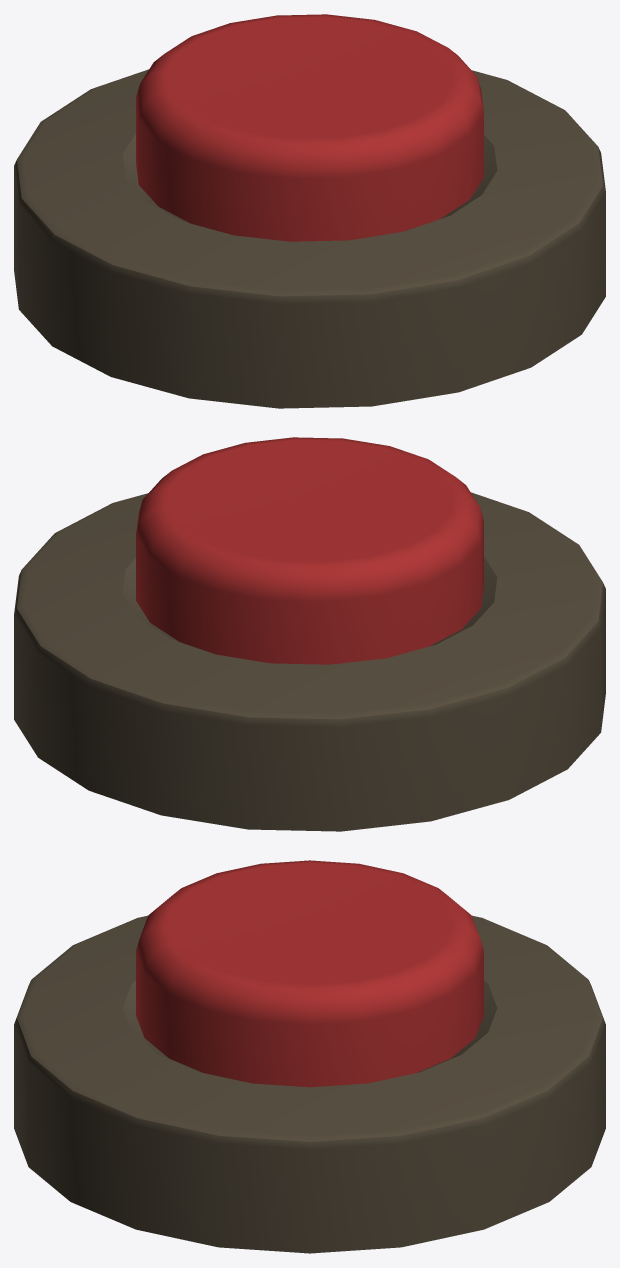
File: button.fbx
3 views of the same model, one above another, from view 1: azimuth 30°, elevation 25°; view 2: azimuth 150°, elevation 25°; view 3: azimuth 270°, elevation 25° (orthographic).
Visible parts, largest first — view 1: button; view 2: button; view 3: button.
Part boxes in pixels (left/top/right/bottom): button: left=14, top=14, right=605, bottom=408; button: left=14, top=437, right=605, bottom=831; button: left=14, top=860, right=605, bottom=1253.
Size of the model in its own units: 126 by 48.07 by 126.
